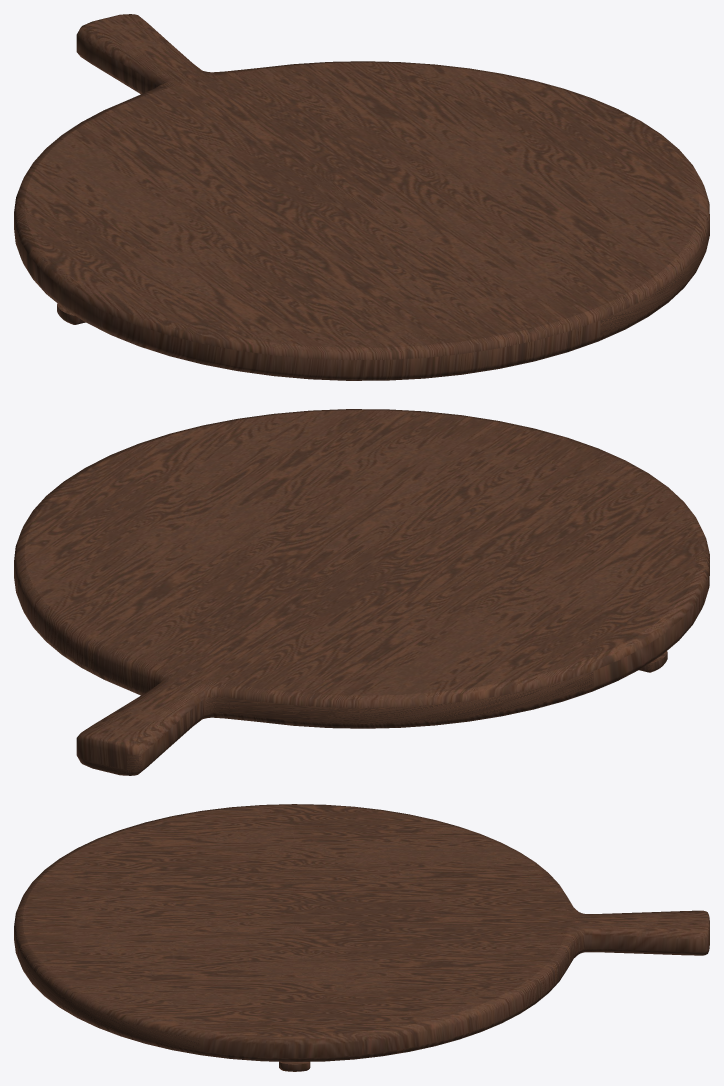
The model's file is PizzaHolder.fbx.
3 views of the same model, one above another, from view 1: azimuth 30°, elevation 25°; view 2: azimuth 150°, elevation 25°; view 3: azimuth 270°, elevation 25° (orthographic). The views are drawn at different scales.
Visible parts, largest first — view 1: TablaPizza; view 2: TablaPizza; view 3: TablaPizza.
Boxes of the visible parts, left/top/right/bottom form: TablaPizza: left=14, top=14, right=709, bottom=380; TablaPizza: left=14, top=409, right=709, bottom=775; TablaPizza: left=14, top=804, right=709, bottom=1071.
Size of the model in its own units: 3.18 by 0.2149 by 3.93.
1 material, 1 textured.
